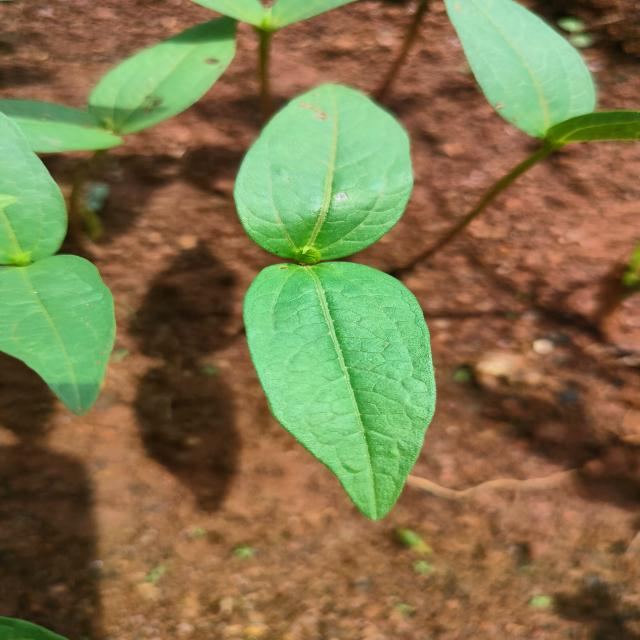Black gram_healthy: (241, 261, 443, 518), (238, 82, 417, 259), (438, 0, 606, 142), (77, 19, 243, 136), (0, 258, 106, 411)
